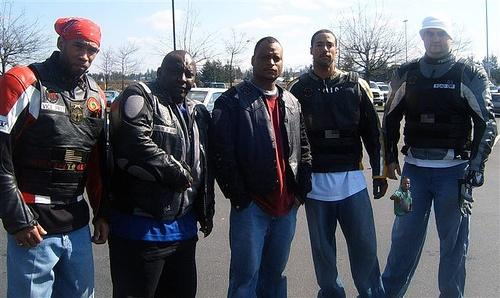tampered: (391, 177, 412, 217)
